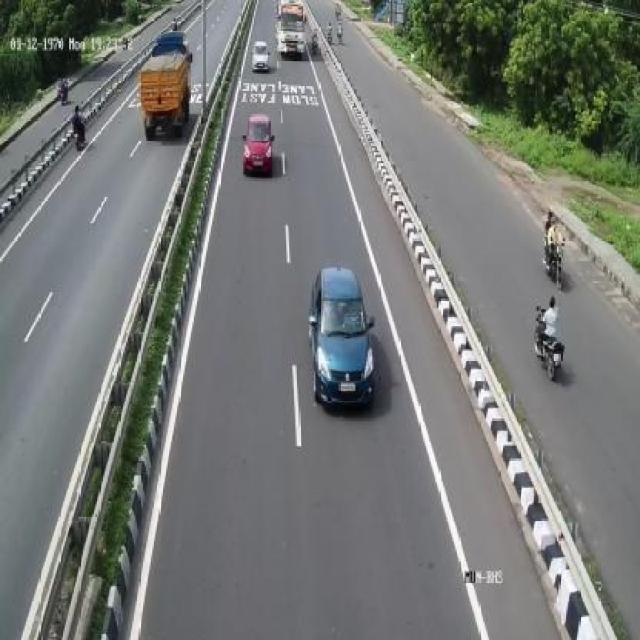car: (304, 260, 388, 417), (243, 106, 279, 180), (252, 37, 274, 77)
